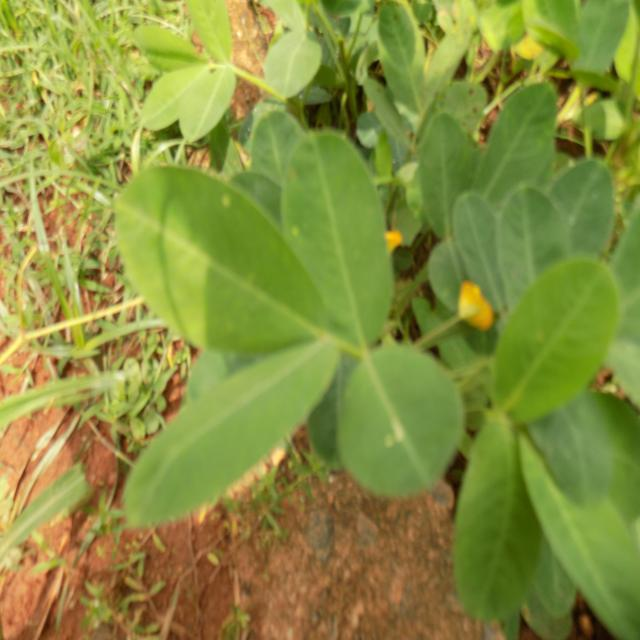Ground nut_healthy: (115, 163, 334, 345), (121, 354, 342, 526), (278, 126, 392, 348), (487, 249, 623, 426), (329, 346, 467, 506), (448, 404, 543, 626), (467, 80, 554, 213), (414, 108, 470, 239)
